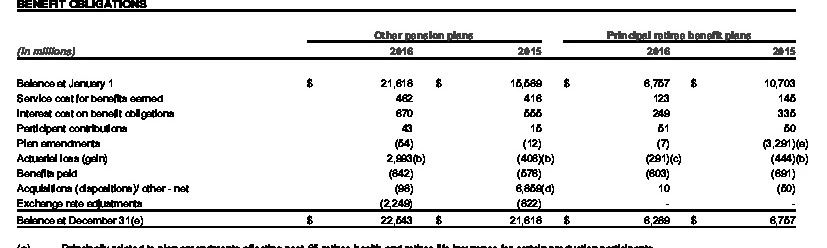table: (0, 0, 827, 248)
